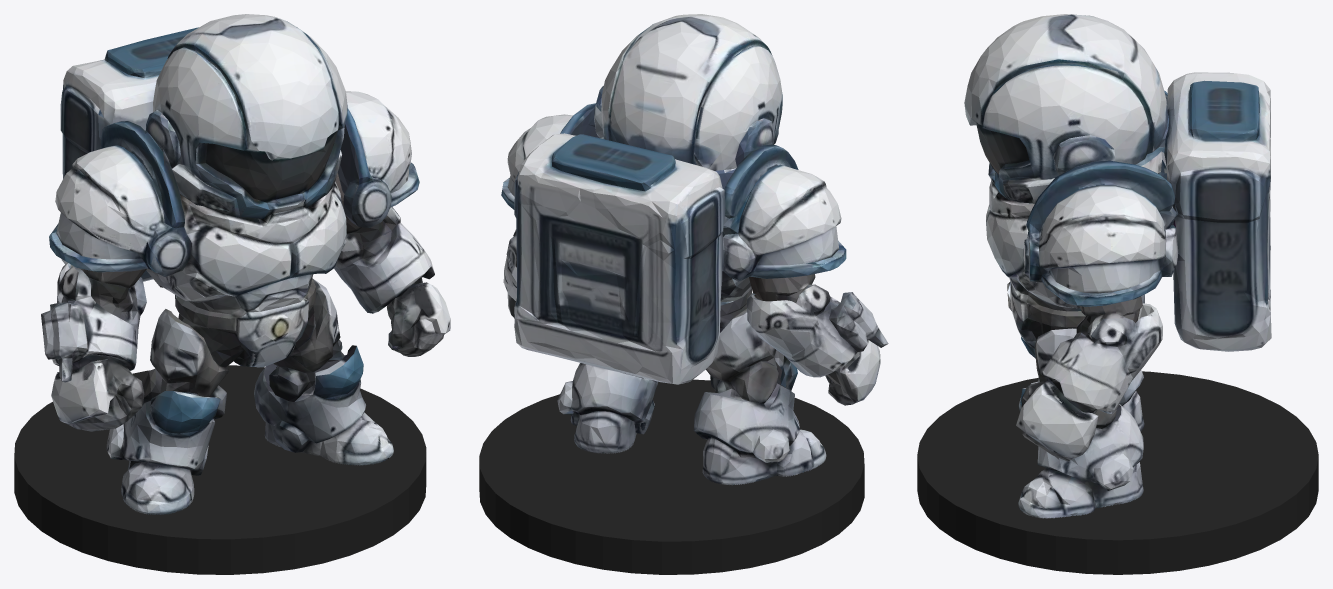
Rendered from medic.glb.
3 renders of one model, left to right at view 1: azimuth 30°, elevation 25°; view 2: azimuth 150°, elevation 25°; view 3: azimuth 270°, elevation 25°, orthographic. The views are drawn at different scales.
Visible parts, largest first — view 1: figure, base; view 2: figure, base; view 3: figure, base.
Part boxes in pixels (x1,y1,x2,y2): figure: [41, 14, 450, 514]; base: [14, 365, 426, 574]; figure: [501, 14, 888, 485]; base: [479, 379, 864, 574]; figure: [964, 14, 1271, 518]; base: [917, 371, 1318, 574].
Size of the model in its own units: 1.38 by 1.62 by 1.26.
2 materials, 1 textured.
